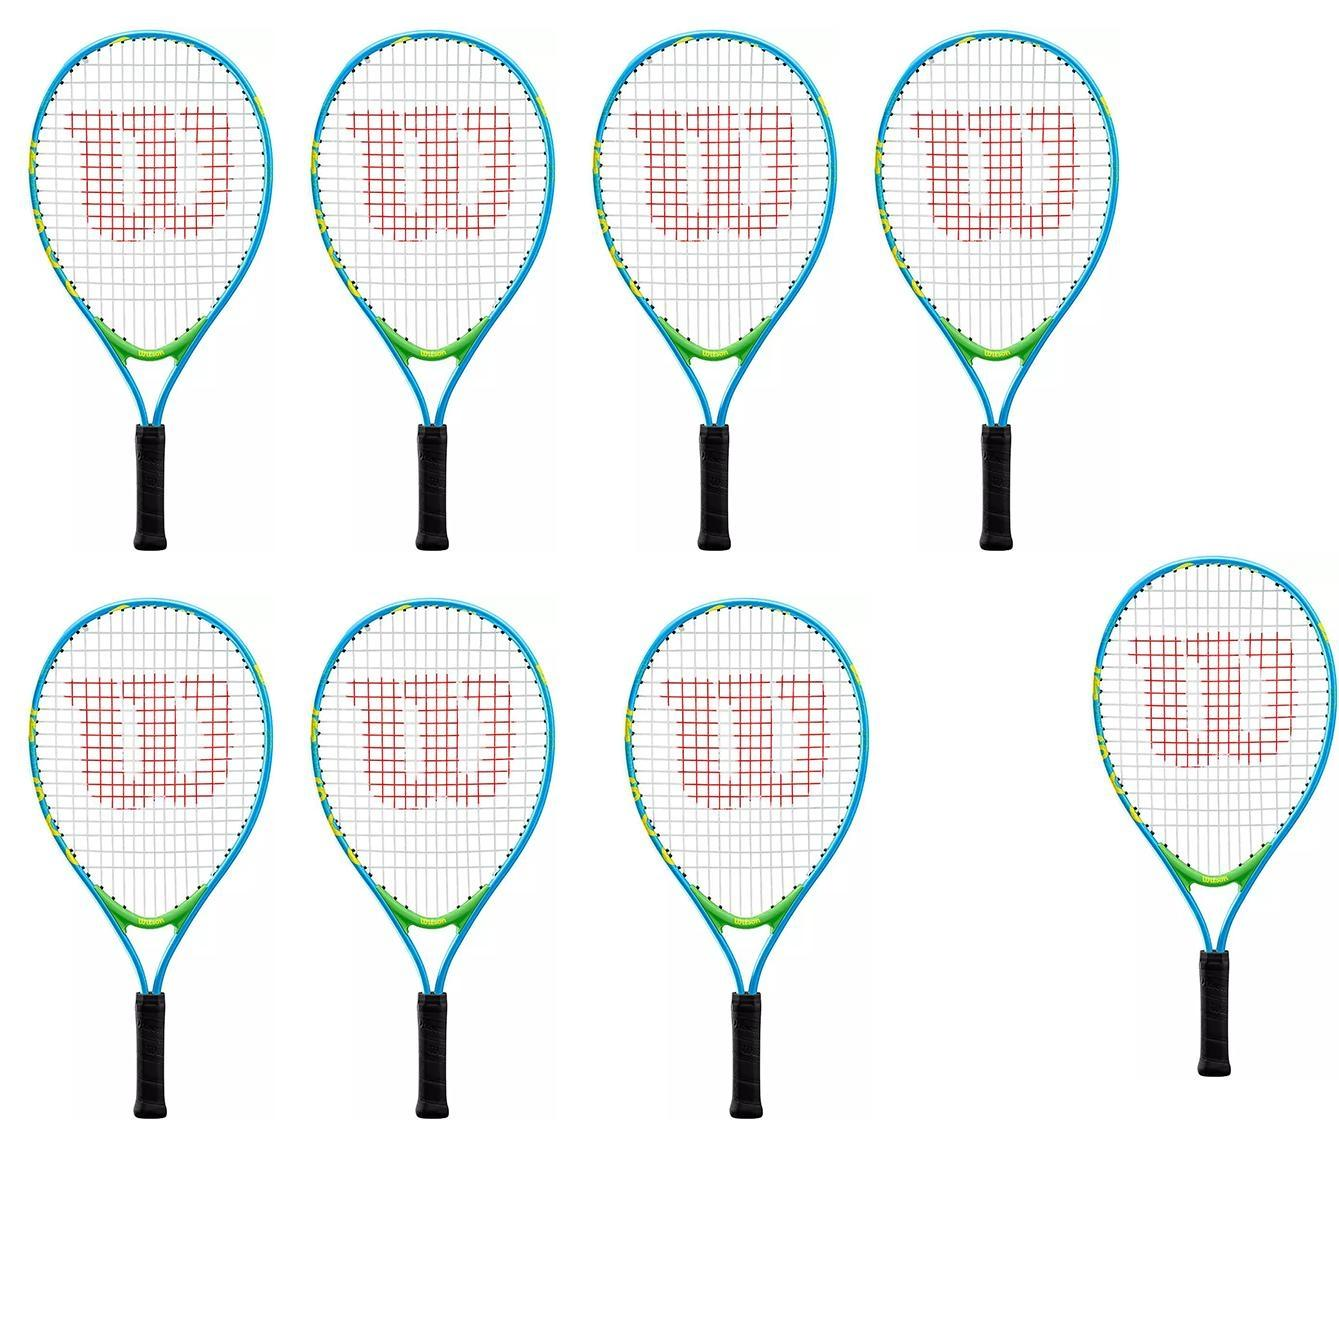Tennis-Racket: (314, 28, 555, 559), (31, 25, 270, 558), (311, 601, 552, 1115), (27, 600, 266, 1113), (885, 29, 1120, 553), (1095, 575, 1339, 1069), (607, 26, 818, 560), (652, 601, 867, 1116)
